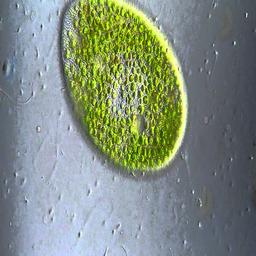Paramecium: (59, 0, 194, 181)
